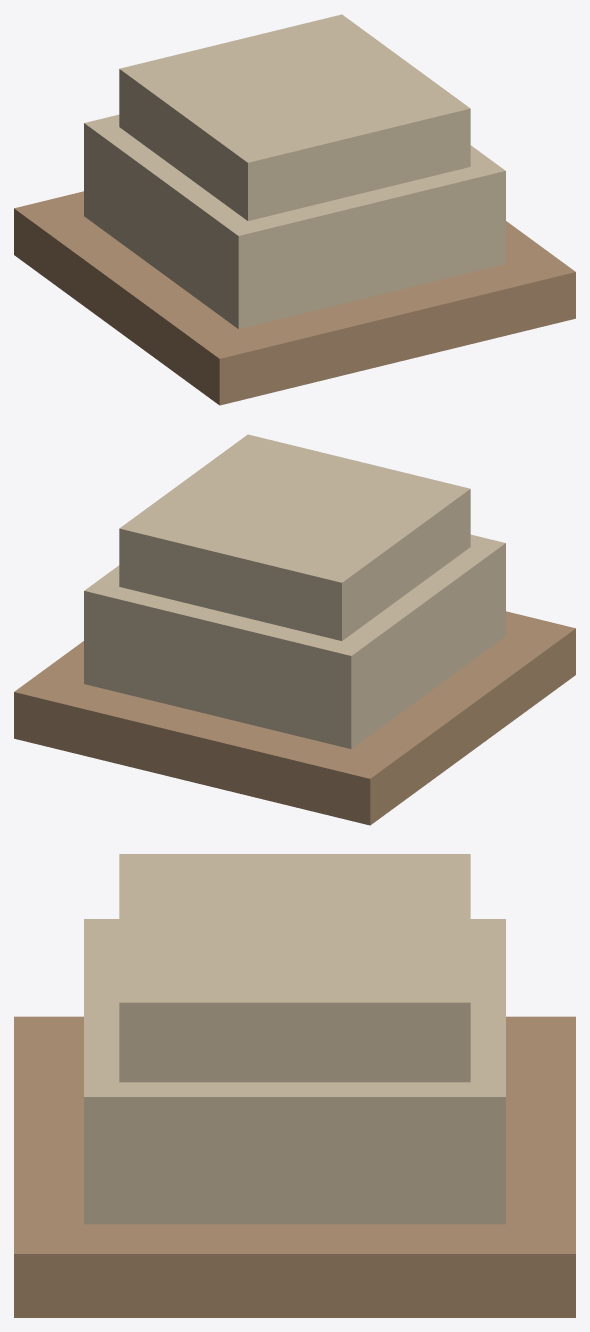
The model's file is pallet_inventory.glb.
3 views of the same model, one above another, from view 1: azimuth 30°, elevation 25°; view 2: azimuth 150°, elevation 25°; view 3: azimuth 270°, elevation 25° (orthographic). The views are drawn at different scales.
Parts seen in each view (by area): view 1: box2, box1, pallet; view 2: box2, box1, pallet; view 3: pallet, box2, box1.
Boxes of the visible parts, x1,y1,x2,y2 form: box2: (119, 14, 470, 220); box1: (84, 114, 505, 329); pallet: (14, 191, 575, 405); box2: (119, 434, 470, 640); box1: (84, 534, 505, 749); pallet: (14, 611, 575, 825); pallet: (14, 1016, 575, 1317); box2: (119, 854, 470, 1082); box1: (84, 919, 505, 1224).
Size of the model in its own units: 1.6 by 0.8503 by 1.6.
